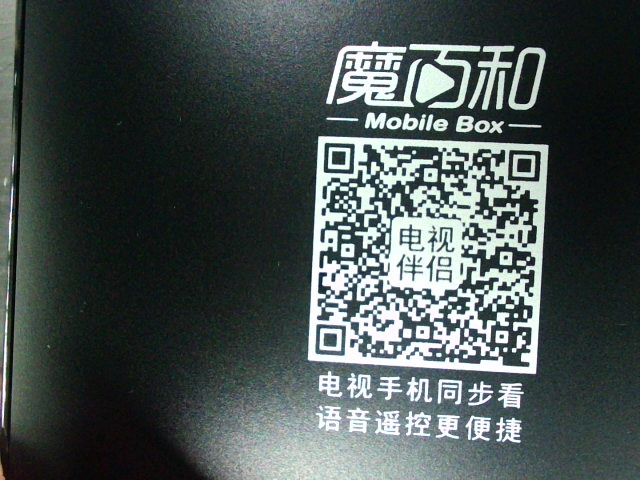AZ_MobileBox: (295, 34, 547, 445)
